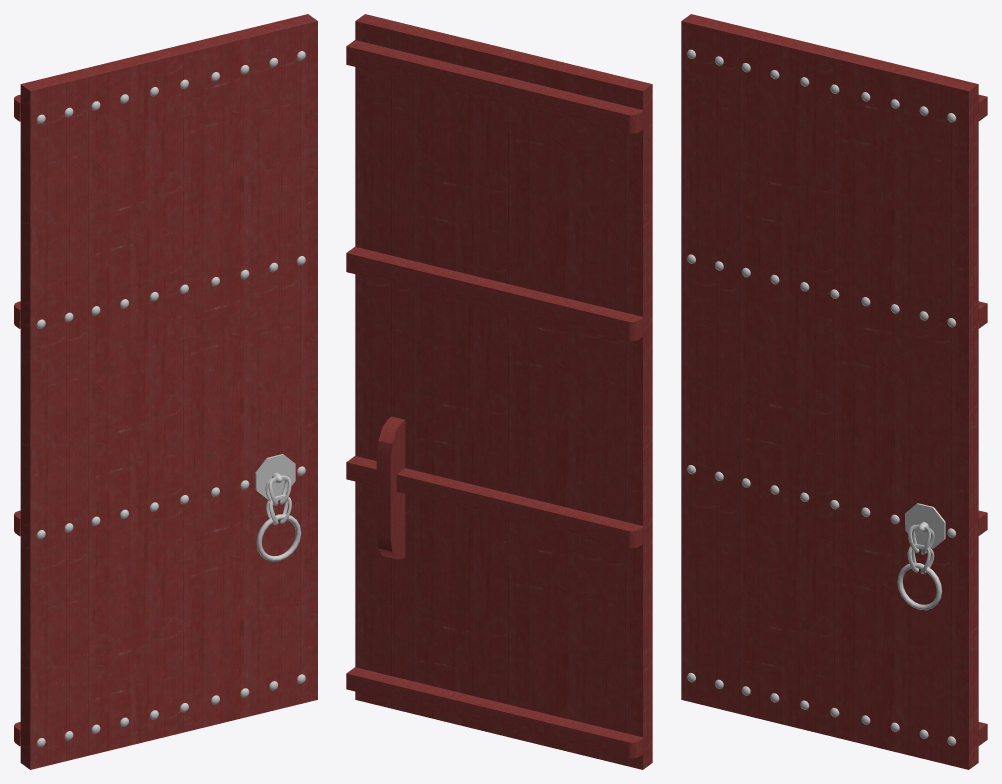
Rendered from SM_D_Gate_1.FBX.
3 renders of one model, left to right at view 1: azimuth 30°, elevation 25°; view 2: azimuth 150°, elevation 25°; view 3: azimuth 330°, elevation 25°, orthographic.
Visible parts, largest first — view 1: SM_D_Gate_1; view 2: SM_D_Gate_1; view 3: SM_D_Gate_1.
Part boxes in pixels (x1,y1,x2,y2): SM_D_Gate_1: (14, 14, 317, 769); SM_D_Gate_1: (346, 14, 652, 769); SM_D_Gate_1: (681, 14, 987, 769).
Bounding box in the file's own units: 197 × 37.49 × 443.
